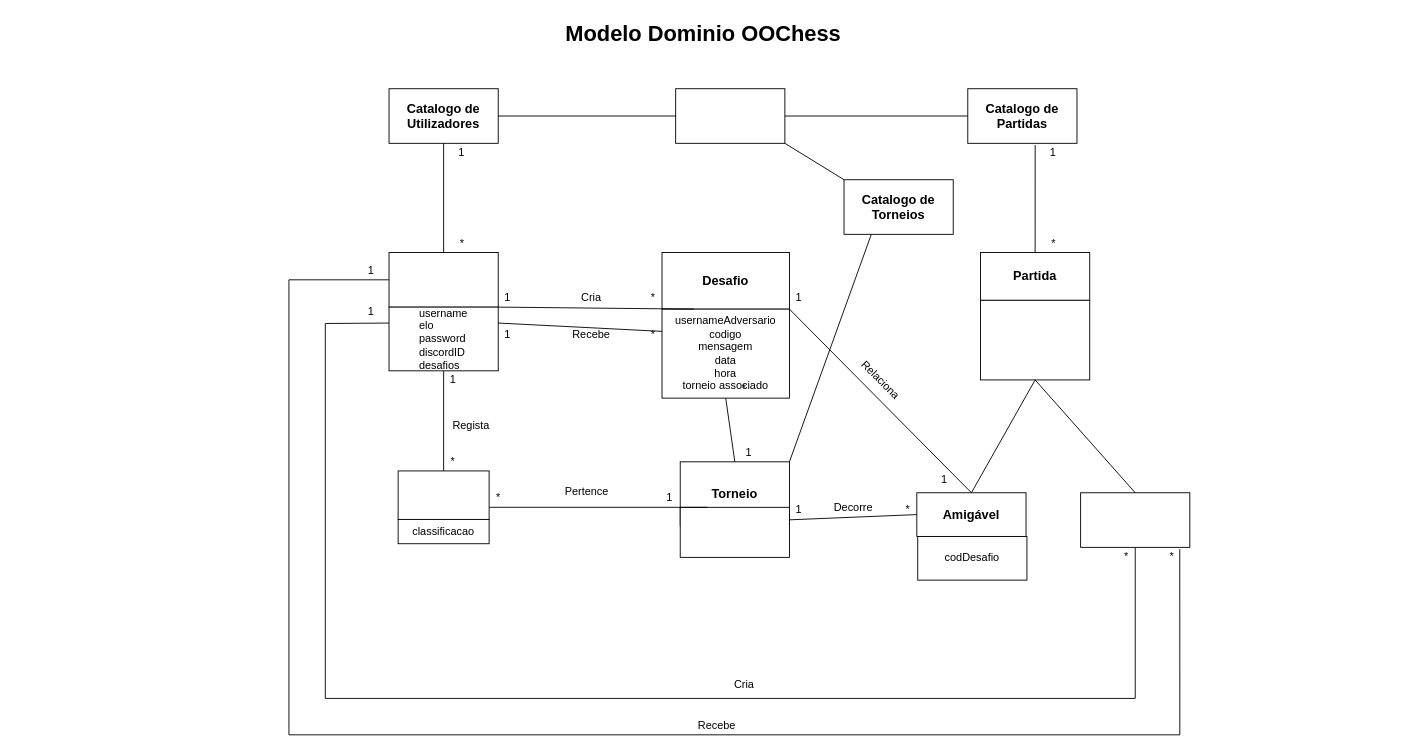
This 1405x752 diagram has some shape labels left out. The centre of each missing label's shape, as x and y in pixels:
"data hora user1 user2 resultado" belongs at [1035,339].
"Espontânea" belongs at [1135,519].
"Inscrição" belongs at [443,494].
"OOChess" belongs at [730,115].
"torneioNome dataInicio dataFim inscriçoes" belongs at [734,531].
"Utilizador" belongs at [443,279].
